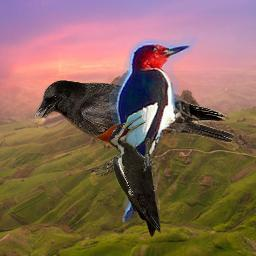Crow: (32, 79, 234, 177)
Woodpecker: (101, 31, 200, 223), (94, 115, 161, 237)
